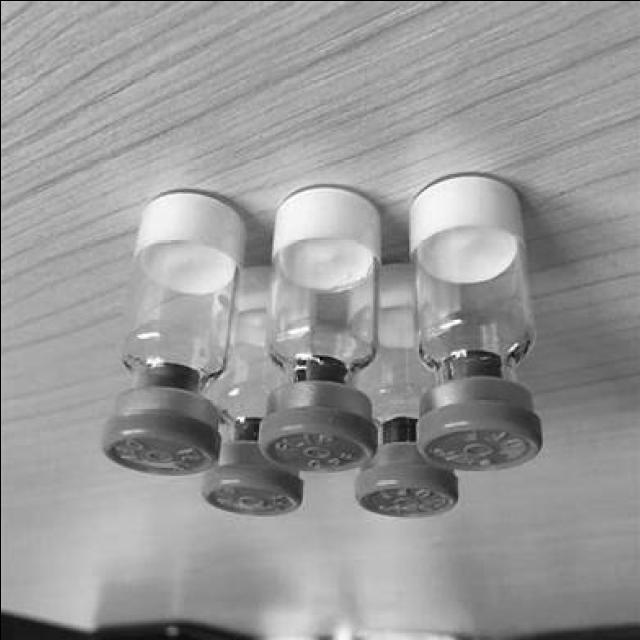vial: (415, 409, 547, 475), (258, 401, 372, 466), (102, 412, 214, 472), (352, 469, 464, 526), (194, 460, 296, 518)
